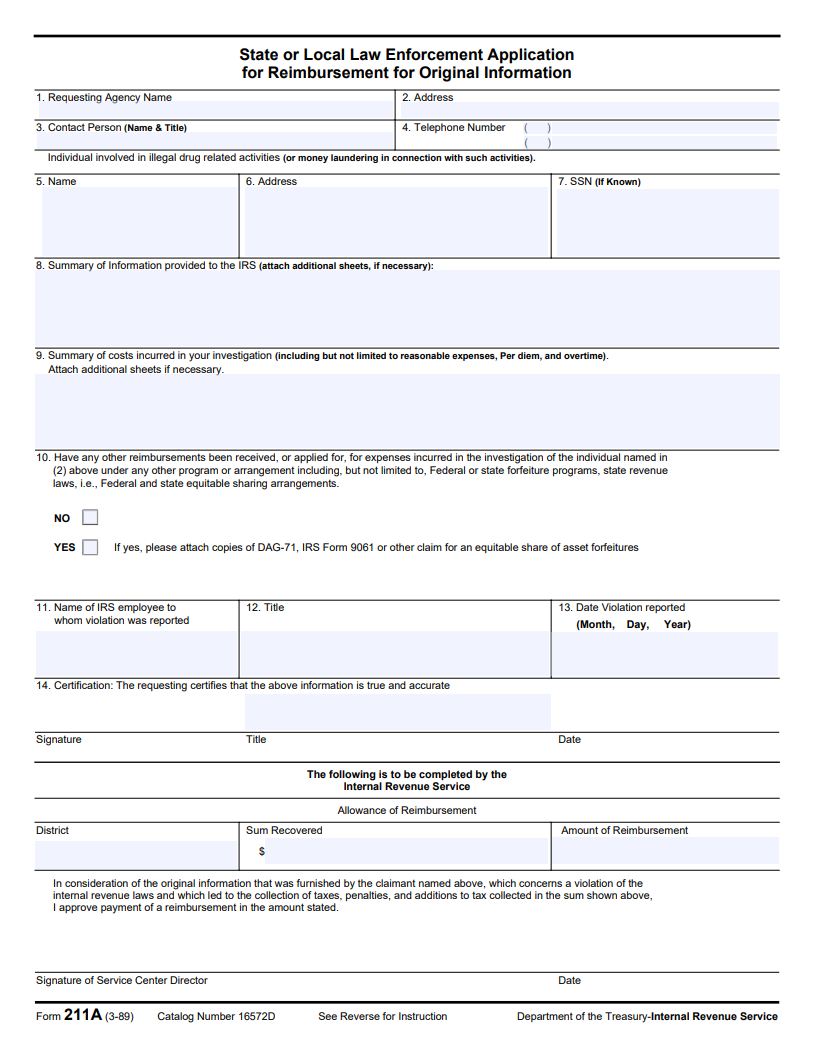checkbox: (79, 507, 100, 527), (79, 537, 100, 557)
textbox: (28, 345, 785, 453), (31, 253, 787, 351), (235, 169, 556, 261), (233, 597, 555, 680), (546, 169, 786, 262), (29, 166, 242, 260), (545, 597, 783, 680), (26, 597, 244, 679), (233, 818, 556, 873), (394, 85, 782, 124), (33, 87, 399, 124), (31, 115, 397, 152), (545, 816, 786, 872), (30, 818, 242, 874), (390, 114, 785, 136), (390, 130, 785, 152)
textline: (28, 745, 784, 765), (31, 949, 554, 974), (242, 705, 549, 735), (27, 708, 244, 737), (552, 704, 769, 733), (555, 950, 786, 975)
